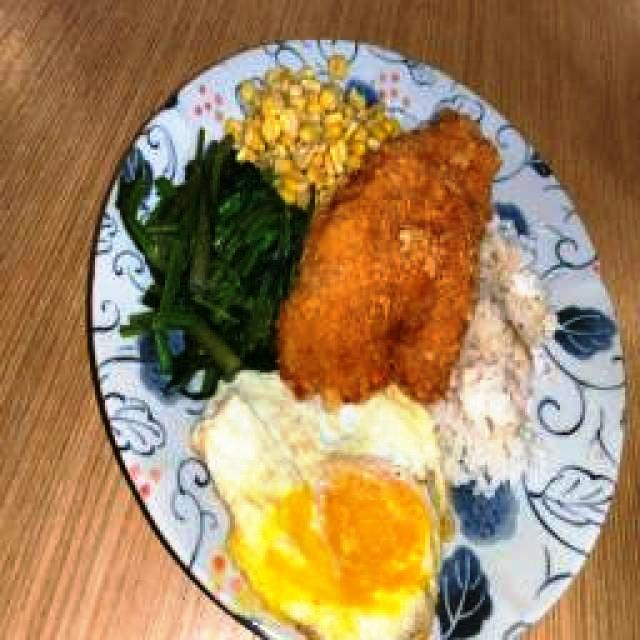fried_chicken: (277, 108, 499, 406)
fried_eggs: (192, 370, 458, 640)
rice: (432, 220, 560, 496)
water_spinach: (116, 128, 307, 399)
